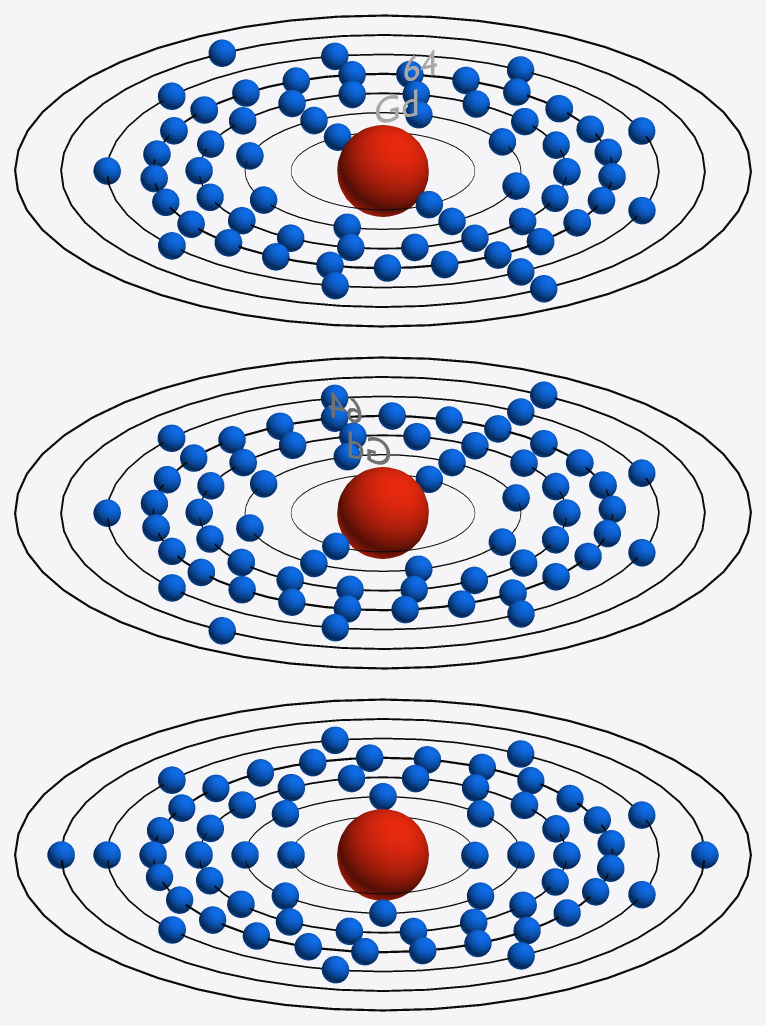
3 views of the same model, one above another, from view 1: azimuth 30°, elevation 25°; view 2: azimuth 150°, elevation 25°; view 3: azimuth 270°, elevation 25° (orthographic).
Parts seen in each view (by area): view 1: Gd4, Gd3, Proton, Gd5, n7, Gd2, n6, n5, n4, Gd6, Gd1, n3 (+1 smaller); view 2: Gd4, Gd3, Proton, Gd5, n7, Gd2, n6, n5, n4, Gd6, Gd1, n3 (+1 smaller); view 3: Gd4, Gd3, Proton, Gd5, Gd2, n7, n6, n5, n4, Gd1, Gd6, n3 (+2 smaller).
Boxes of the visible parts, x1,y1,x2,y2 form: Gd4: (140, 61, 625, 281); Gd3: (185, 80, 580, 261); Proton: (337, 125, 428, 216); Gd5: (93, 42, 655, 299); n7: (14, 14, 751, 327); Gd2: (236, 101, 529, 238); n6: (60, 34, 705, 307); n5: (107, 53, 659, 288); n4: (153, 72, 612, 268); Gd6: (208, 39, 557, 302); Gd1: (323, 123, 442, 218); n3: (199, 92, 566, 249); Gd4: (140, 402, 625, 623); Gd3: (185, 422, 580, 602); Proton: (337, 467, 428, 558); Gd5: (93, 384, 655, 641); n7: (14, 356, 751, 669); Gd2: (236, 443, 529, 580); n6: (60, 376, 705, 649); n5: (107, 395, 659, 630); n4: (152, 414, 613, 611); Gd6: (208, 381, 557, 644); Gd1: (322, 465, 442, 560); n3: (199, 434, 566, 591); Gd4: (139, 744, 624, 965); Gd3: (185, 764, 580, 944); Proton: (337, 809, 428, 900); Gd5: (93, 726, 655, 983); Gd2: (231, 783, 534, 926); n7: (14, 698, 751, 1011); n6: (61, 718, 704, 991); n5: (107, 737, 659, 972); n4: (153, 756, 613, 953); Gd1: (277, 841, 488, 869); Gd6: (47, 841, 718, 868); n3: (199, 776, 566, 933).
Bounding box in the file's own units: 802 × 180 × 802.
